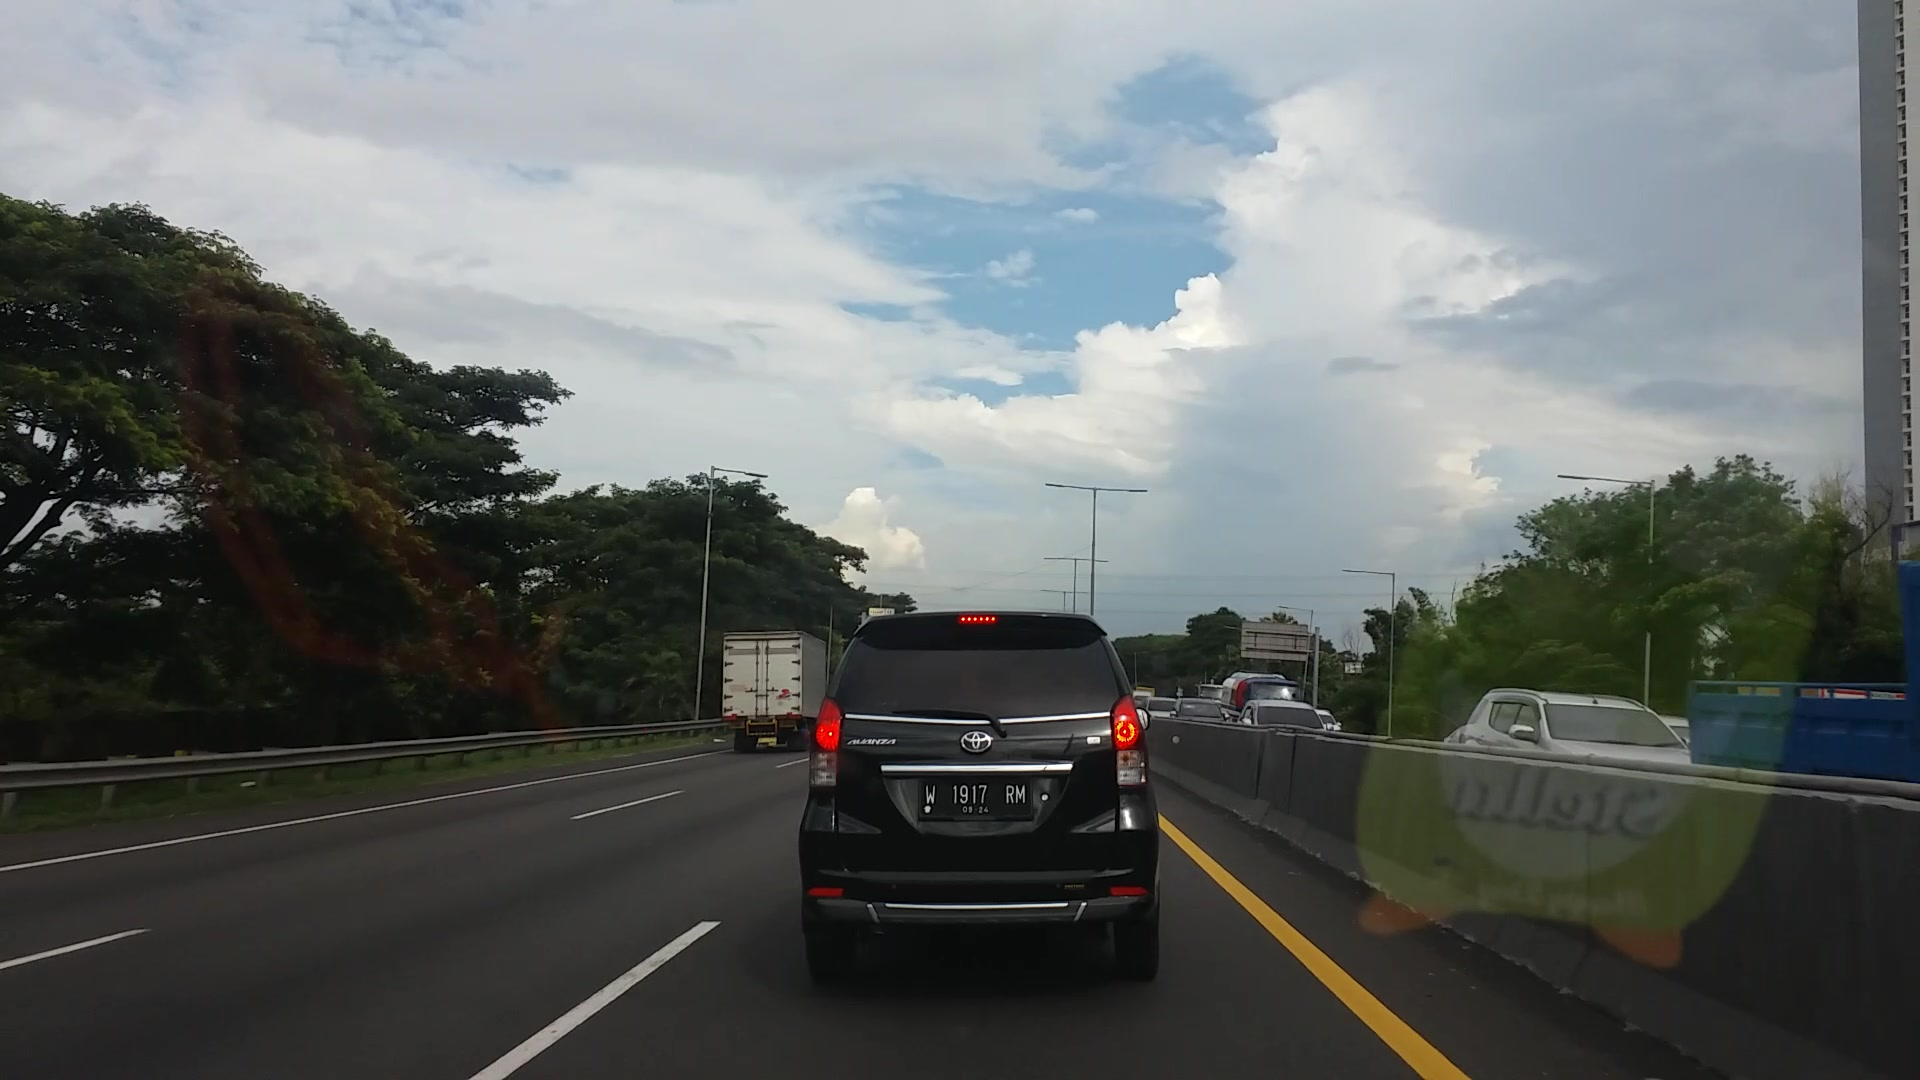plate_positive: (918, 777, 1031, 819)
